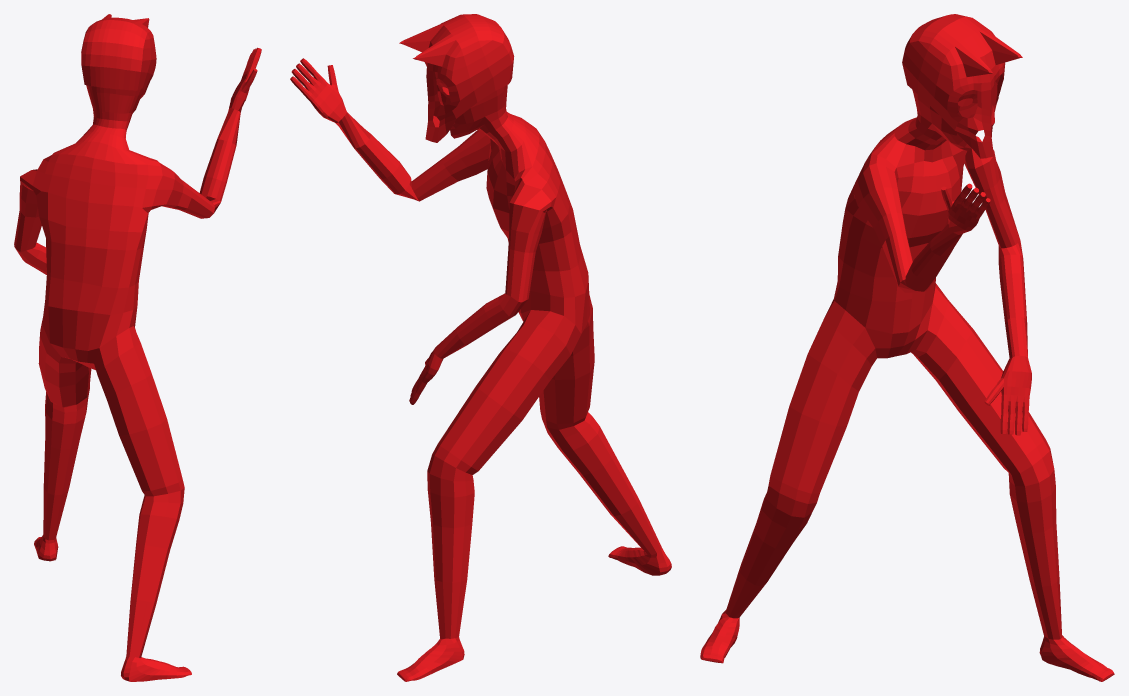
File: activaAlarma_000081.obj
3 views of the same model, side by side, from view 1: azimuth 30°, elevation 25°; view 2: azimuth 150°, elevation 25°; view 3: azimuth 270°, elevation 25° (orthographic). The views are drawn at different scales.
Visible parts, largest first — view 1: Plane.002_Plane.001; view 2: Plane.002_Plane.001; view 3: Plane.002_Plane.001.
Part boxes in pixels (bbox=[...]): Plane.002_Plane.001: bbox=[14, 14, 261, 681]; Plane.002_Plane.001: bbox=[290, 14, 671, 681]; Plane.002_Plane.001: bbox=[700, 14, 1114, 681].
Bounding box in the file's own units: 2.96 × 6.58 × 3.73.
